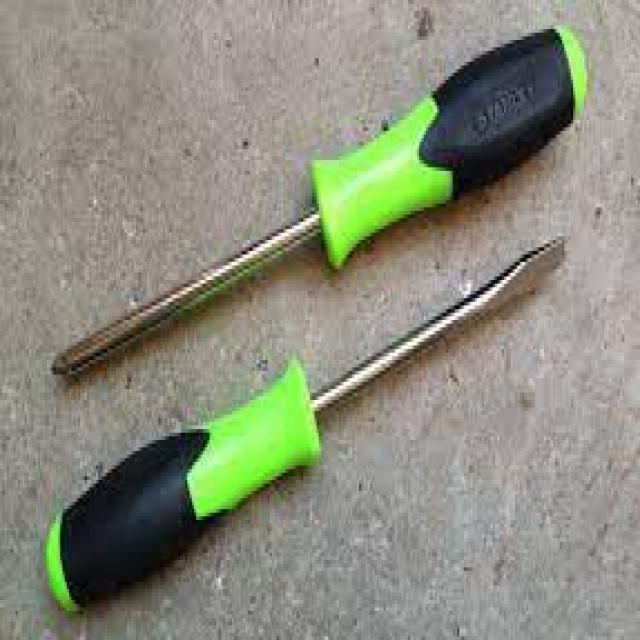screwdriver: (43, 234, 570, 620), (47, 24, 589, 376)
